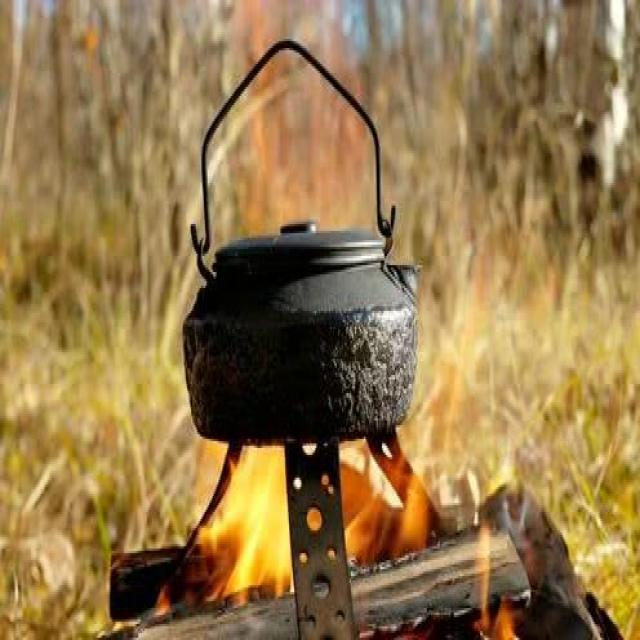fire: (170, 394, 525, 636), (224, 8, 365, 232)
